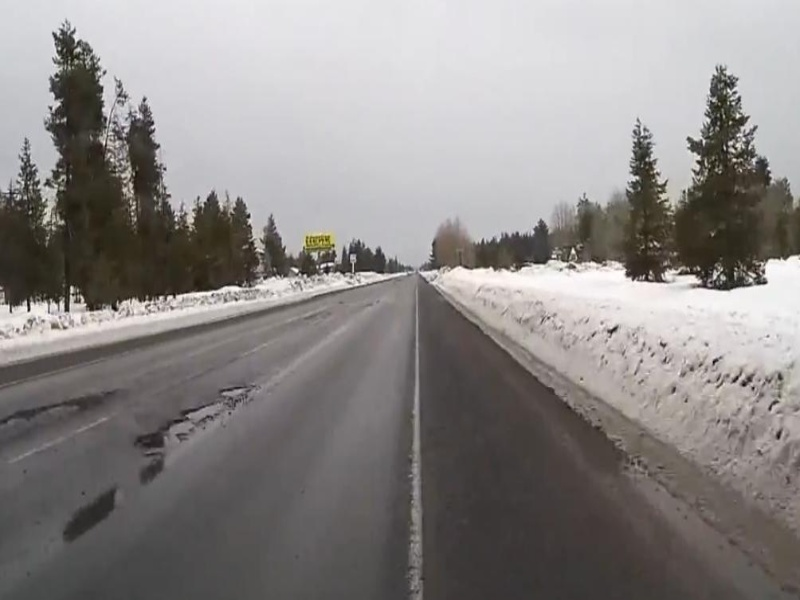pothole: (217, 383, 261, 397)
